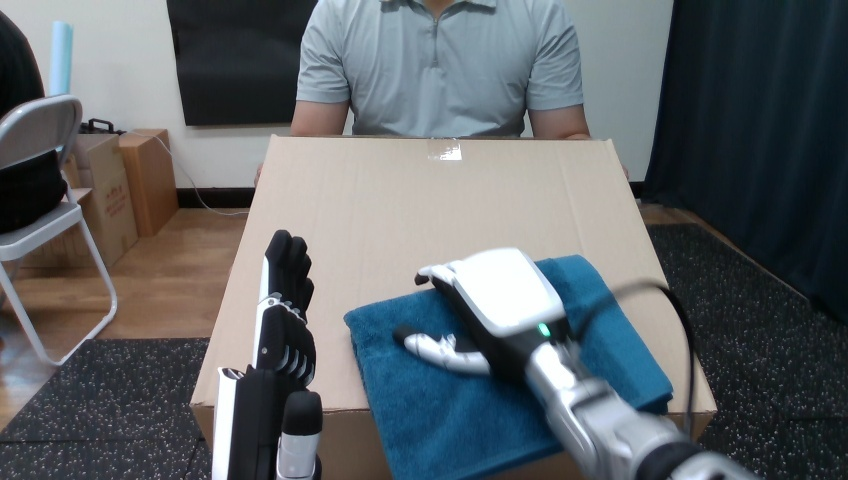left robot hand: (394, 247, 757, 479), (212, 230, 315, 479)
